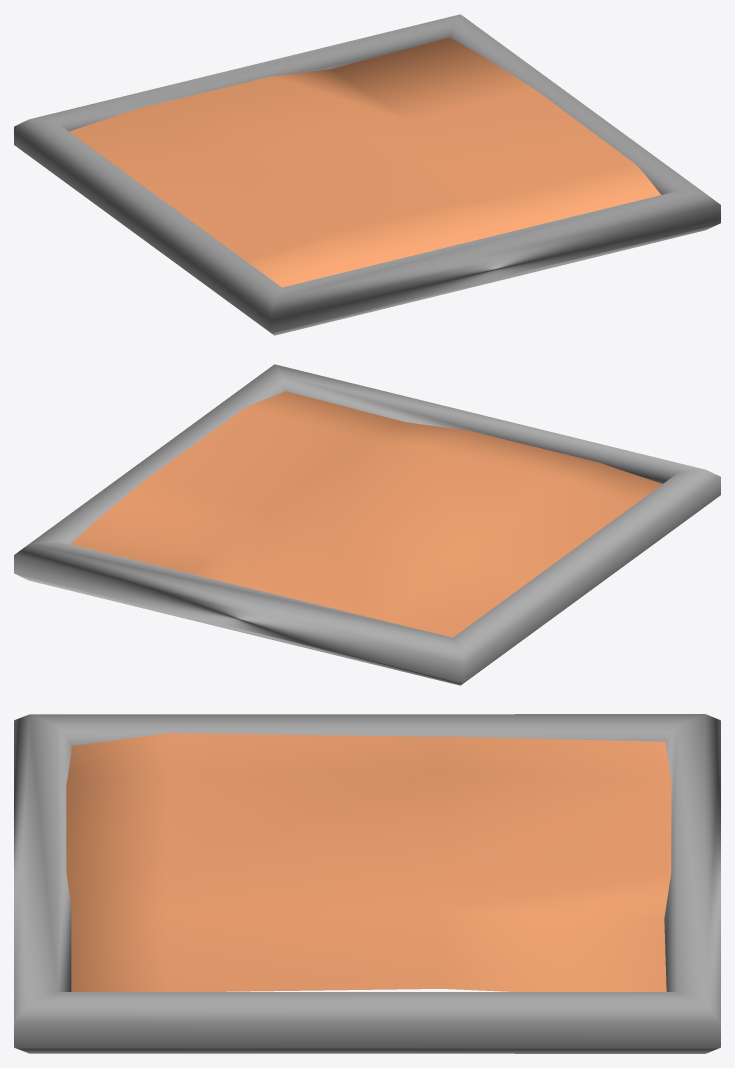
Rendered from Field2Low.fbx.
3 views of the same model, one above another, from view 1: azimuth 30°, elevation 25°; view 2: azimuth 150°, elevation 25°; view 3: azimuth 270°, elevation 25° (orthographic). The views are drawn at different scales.
Visible parts, largest first — view 1: Field2; view 2: Field2; view 3: Field2.
Part boxes in pixels (x1,y1,x2,y2): Field2: [14, 14, 720, 335]; Field2: [14, 364, 720, 685]; Field2: [14, 714, 720, 1053].
Size of the model in its own units: 4.42 by 0.3761 by 4.38.
Materials: 2 (1 with a texture image).
